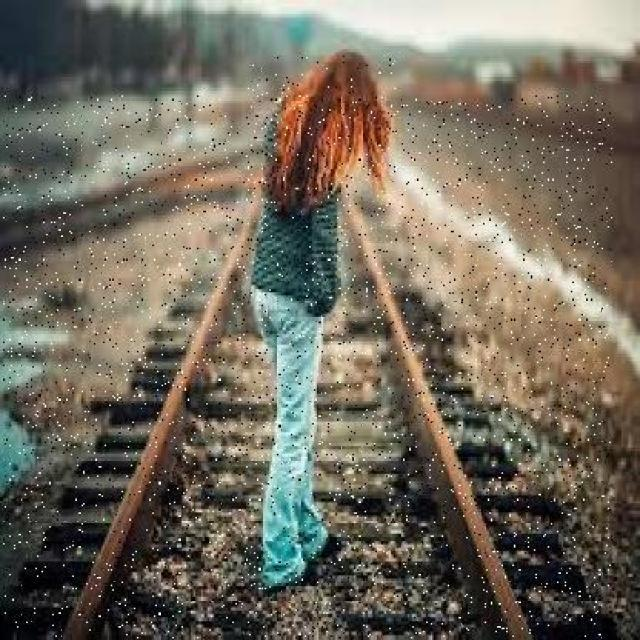danger: (246, 55, 397, 594)
rail: (3, 96, 612, 638)
